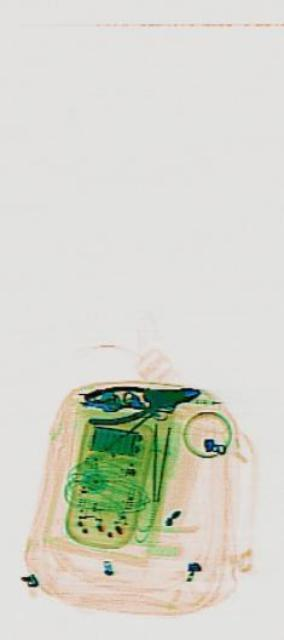Pliers: (80, 370, 198, 428)
